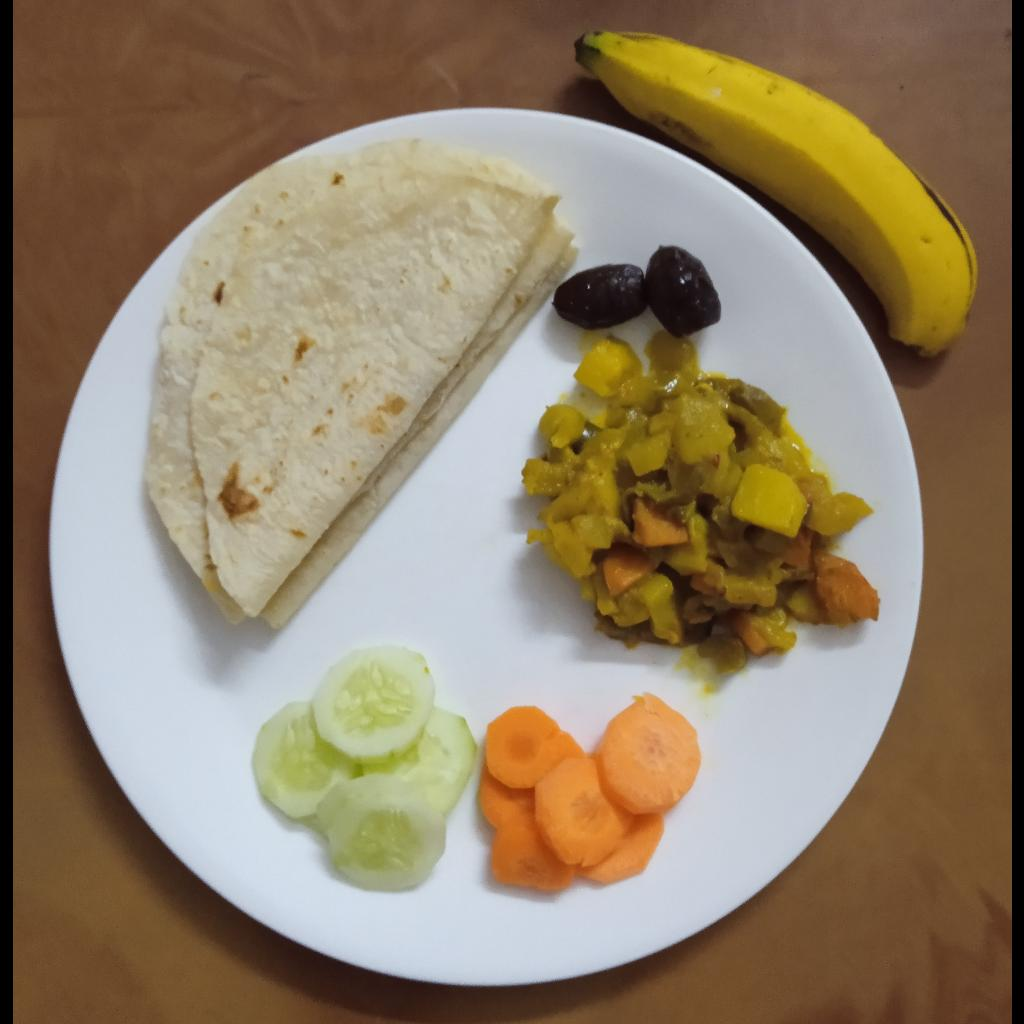carrot: (477, 689, 701, 897)
cucumber: (249, 641, 477, 889)
dates: (552, 245, 722, 337)
ruti: (142, 138, 581, 630)
vegetable: (521, 329, 882, 663)
